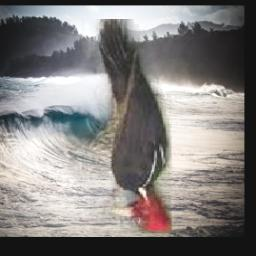Woodpecker: (47, 20, 172, 234)
